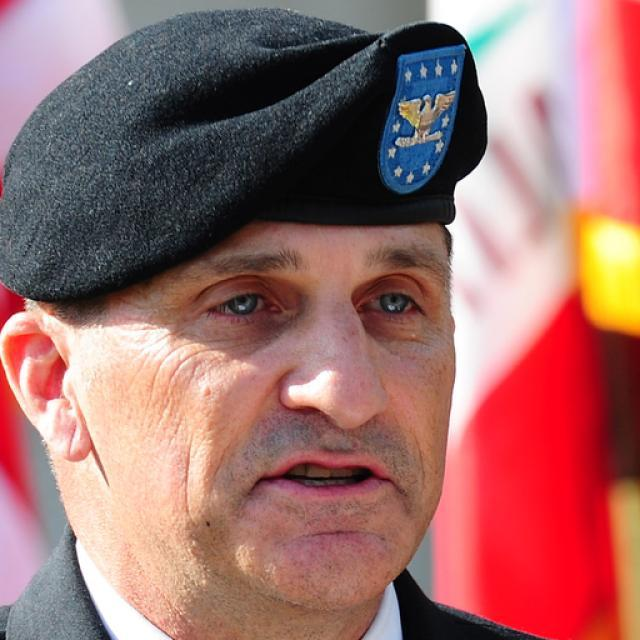neutral: (90, 214, 454, 612)
